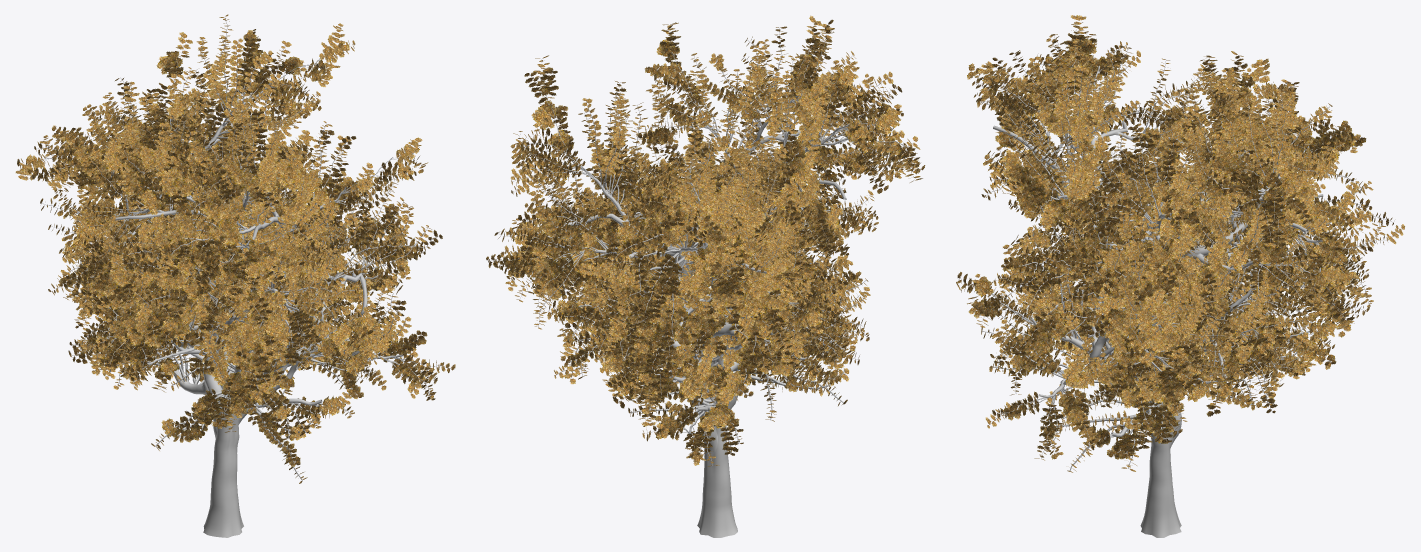
The model's file is Arrayan Pro 5m.fbx.
3 renders of one model, left to right at view 1: azimuth 30°, elevation 25°; view 2: azimuth 150°, elevation 25°; view 3: azimuth 270°, elevation 25°, orthographic. The views are drawn at different scales.
Visible parts, largest first — view 1: Hojas, Tronco; view 2: Hojas, Tronco; view 3: Hojas, Tronco.
Part boxes in pixels (x1,y1,x2,y2): Hojas: (15, 14, 455, 483); Tronco: (25, 17, 450, 537); Hojas: (486, 15, 925, 466); Tronco: (488, 28, 914, 537); Hojas: (956, 15, 1404, 472); Tronco: (959, 18, 1401, 537).
Bounding box in the file's own units: 13.01 × 16.03 × 13.85.
